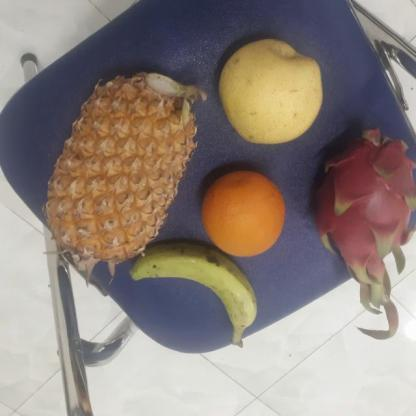banana: (129, 245, 255, 346)
guava: (216, 40, 325, 145)
orange: (195, 170, 291, 260)
pineapple: (42, 71, 204, 262)
pitaya: (305, 123, 416, 286)
